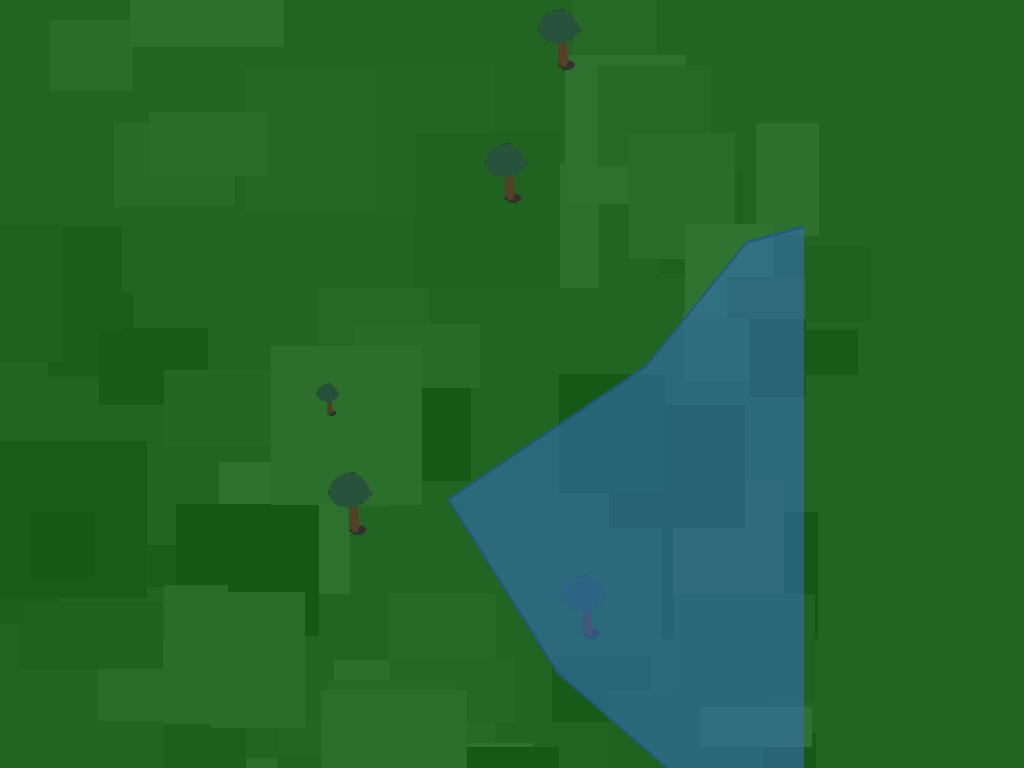Lake: (448, 162, 804, 768)
